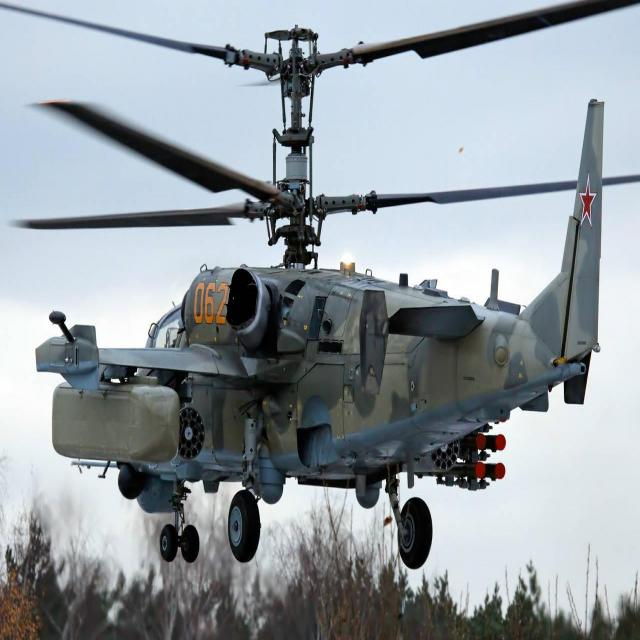MIL_HELO: (22, 0, 640, 573)
